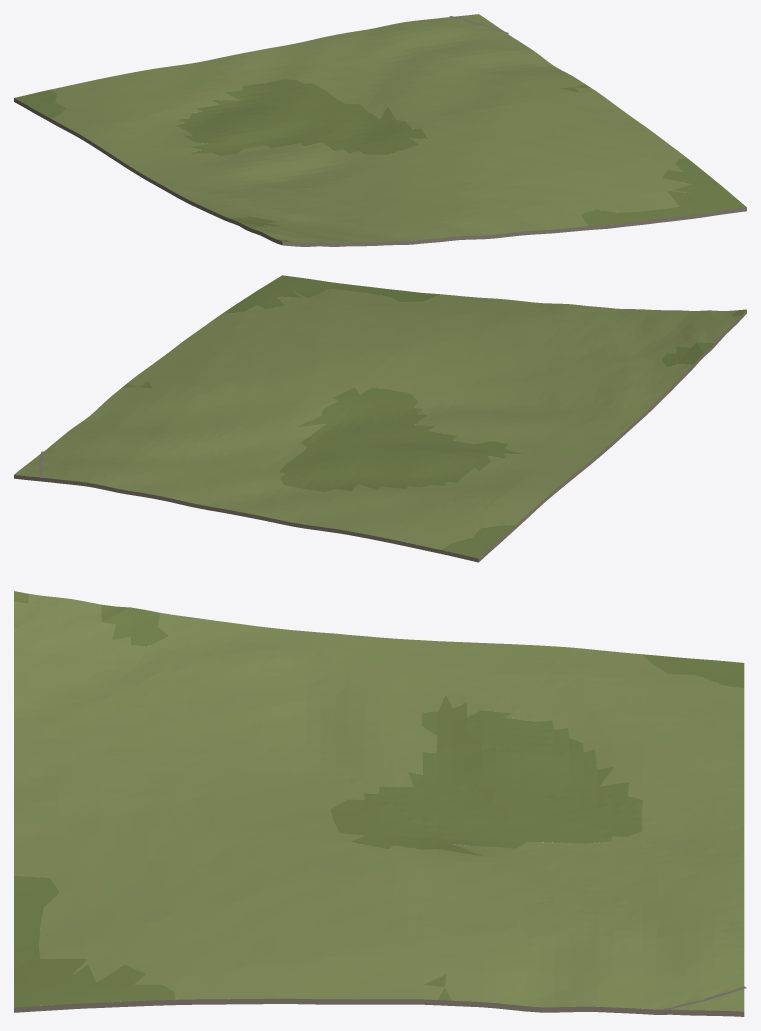
File: parca_+10_-4-uzak.glb
3 renders of one model, top to bottom at view 1: azimuth 30°, elevation 25°; view 2: azimuth 150°, elevation 25°; view 3: azimuth 270°, elevation 25°, orthographic. The views are drawn at different scales.
Visible parts, largest first — view 1: parca_+10_-4_arazi_uzak; view 2: parca_+10_-4_arazi_uzak; view 3: parca_+10_-4_arazi_uzak.
Boxes of the visible parts, box(x1,y1,x2,y2) form: parca_+10_-4_arazi_uzak: box(14, 14, 746, 246); parca_+10_-4_arazi_uzak: box(14, 275, 746, 562); parca_+10_-4_arazi_uzak: box(14, 591, 744, 1016).
Size of the model in its own units: 1003 by 177 by 1004.
